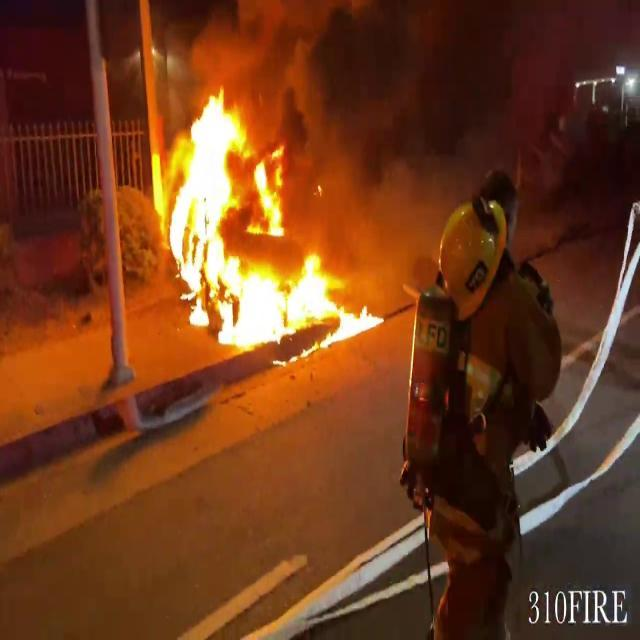Fire: (154, 81, 382, 355)
Smoke: (248, 0, 503, 271)
